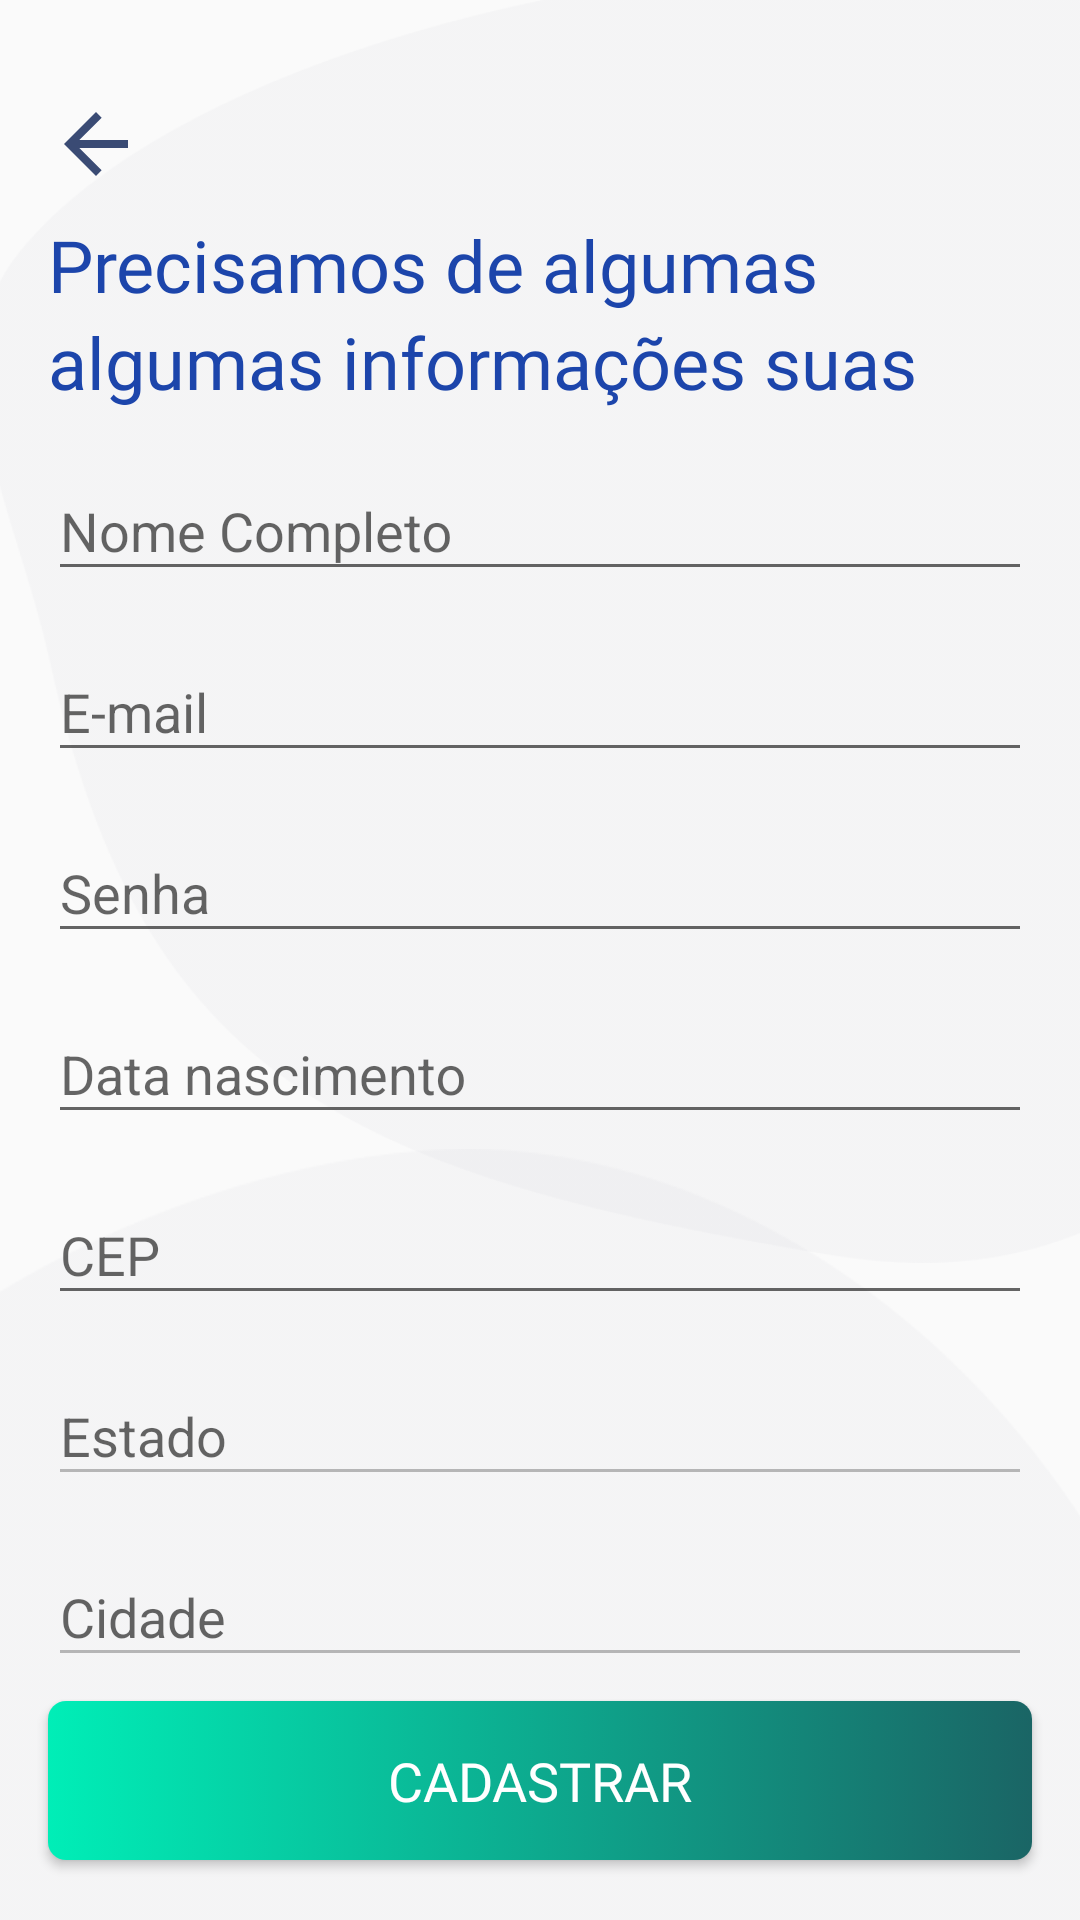

Screen size 1080×1920. Icon name, then its center in pixels as [x,y]:
arrow back: [96,144]
